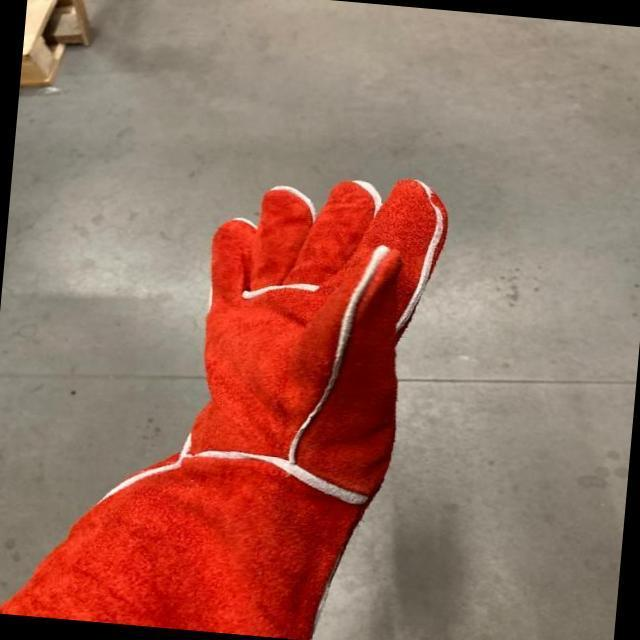Gloves: (109, 173, 447, 640)
